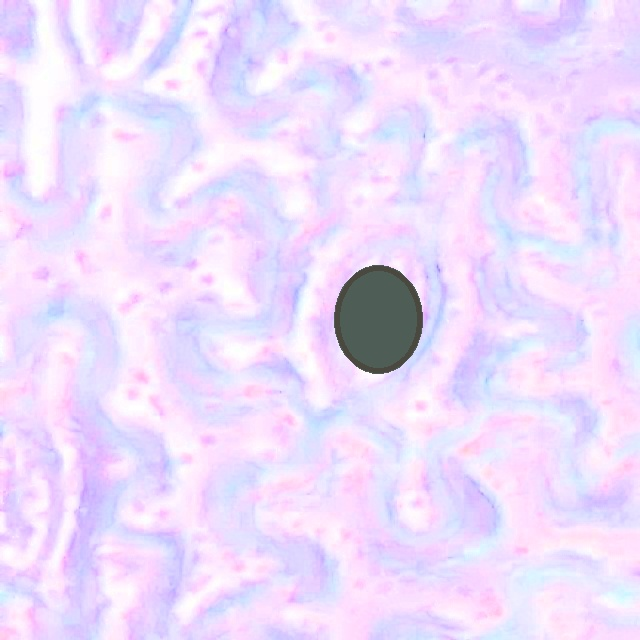open: (334, 265, 423, 373)
